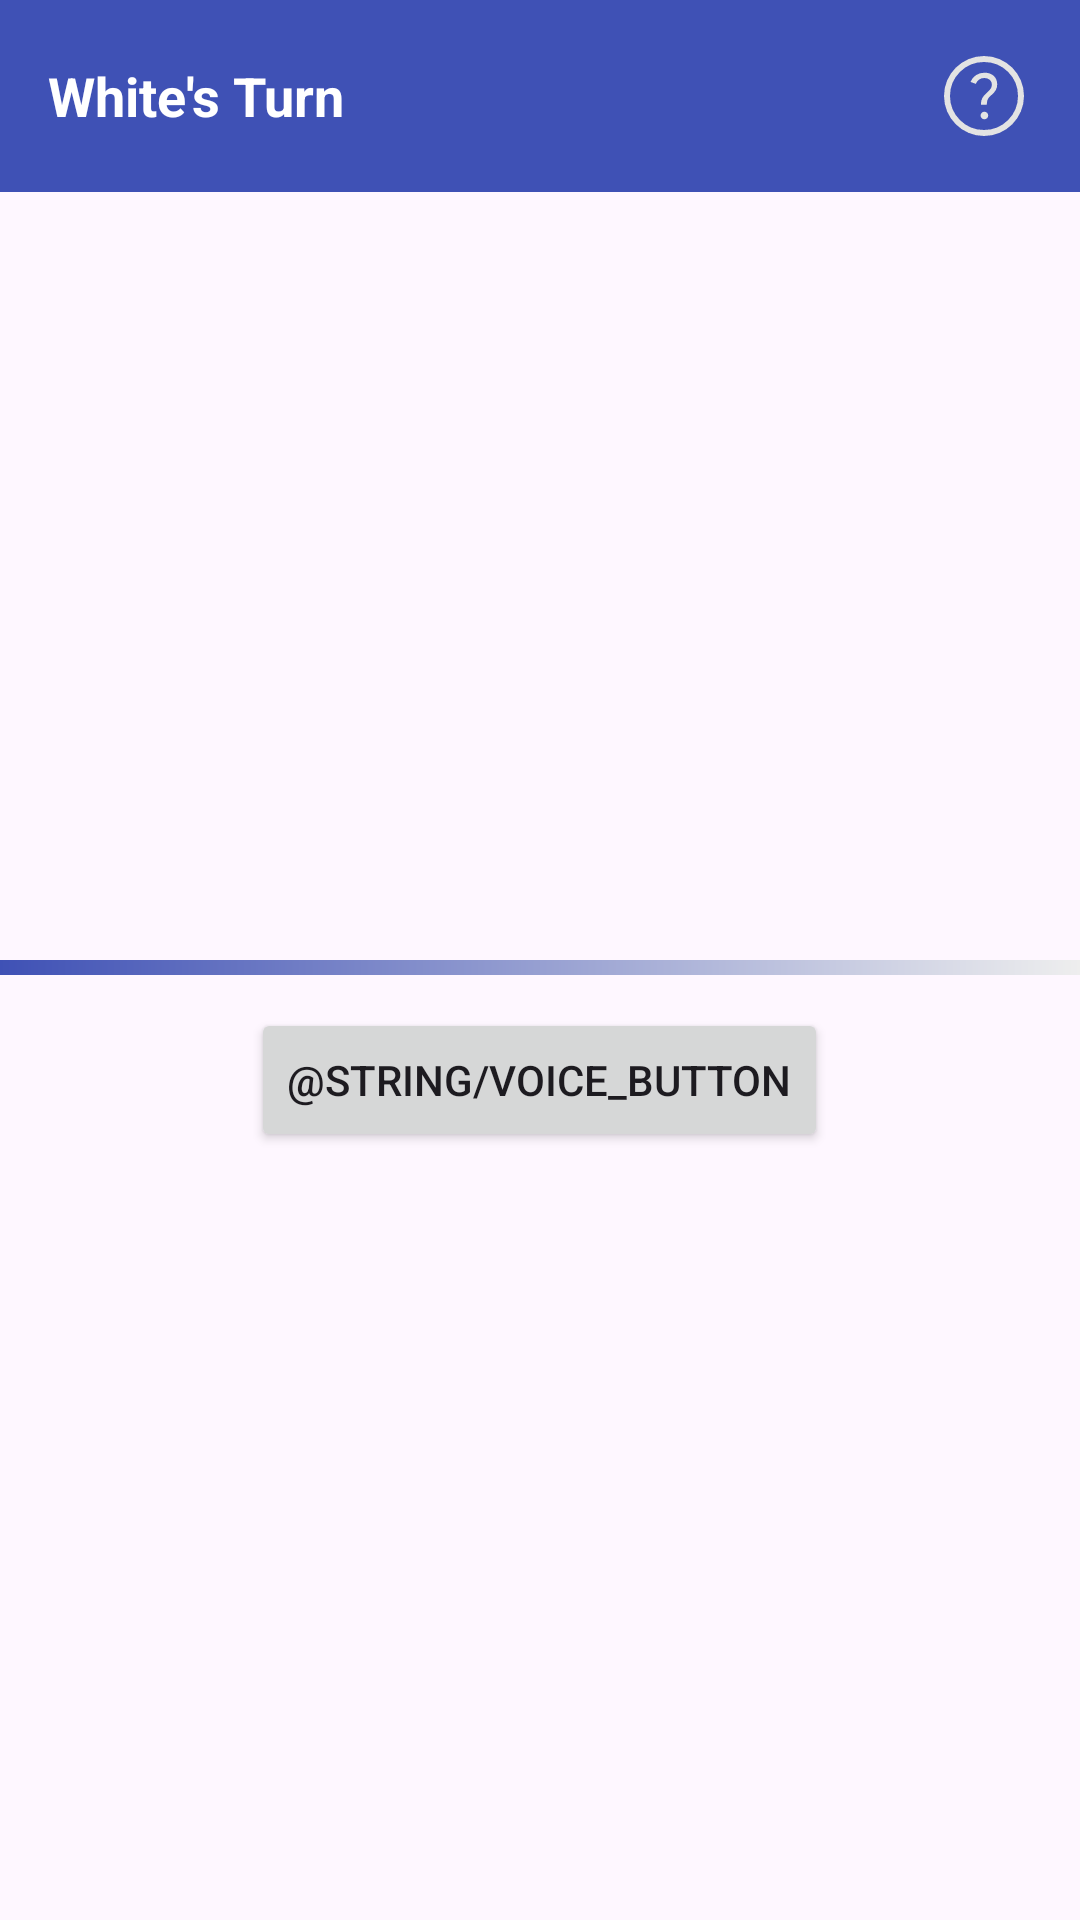

Screen size 1080 × 1920. Icon name, then its box in pixels as [x1,y1,x2,y2]:
help: [944,56,1024,136]
